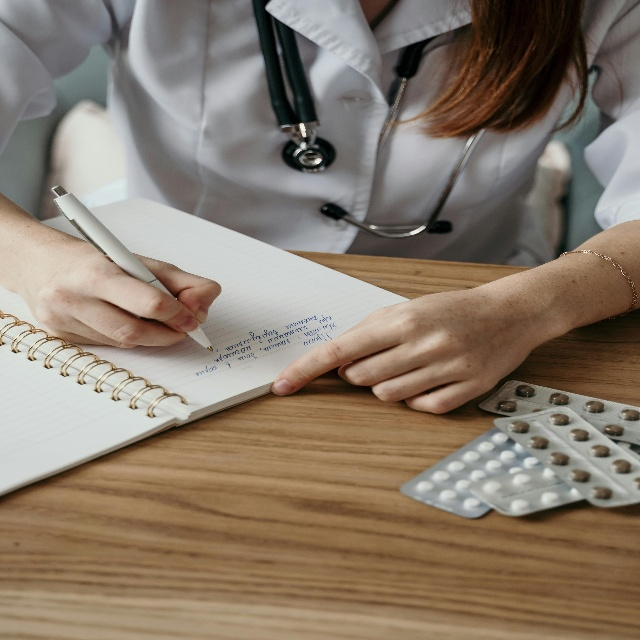Sin_guantes: (271, 272, 530, 408), (31, 229, 222, 358)
